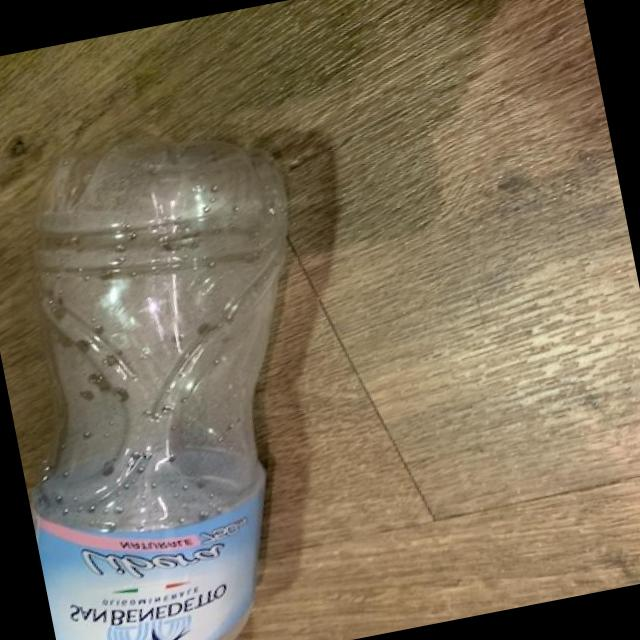plastic_bottle: (0, 108, 385, 640)
